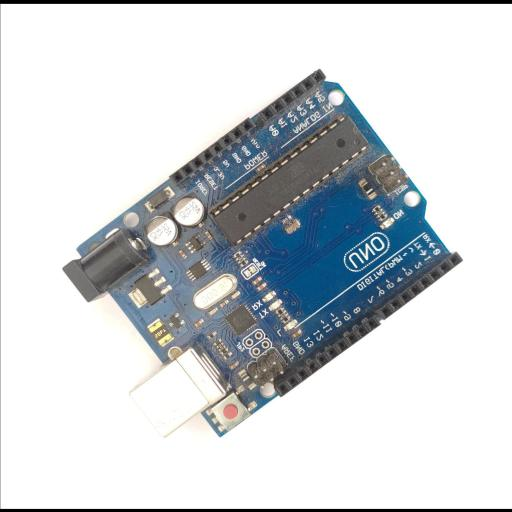Arduino Uno R3: (62, 68, 464, 439)
